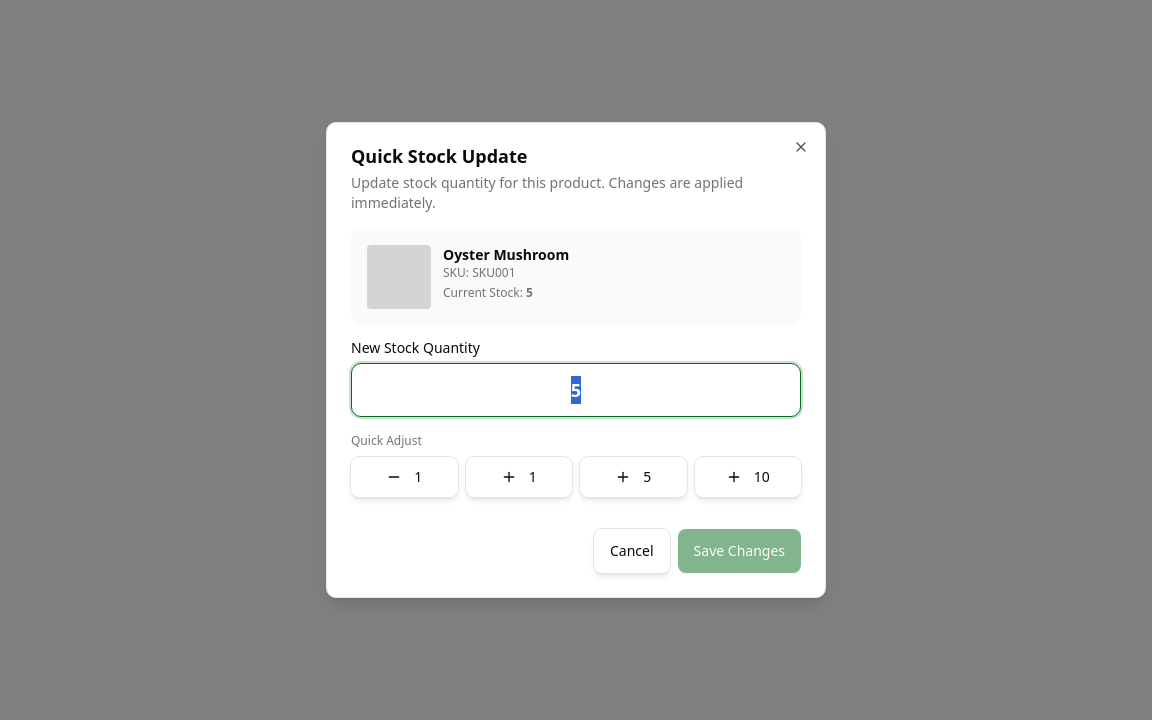
Test: QuickStockUpdate › Quick Adjust Buttons › should increment stock by 1
Click the button named "Increase by 1".
click(519, 477)  # box left=466, top=457, right=572, bottom=497
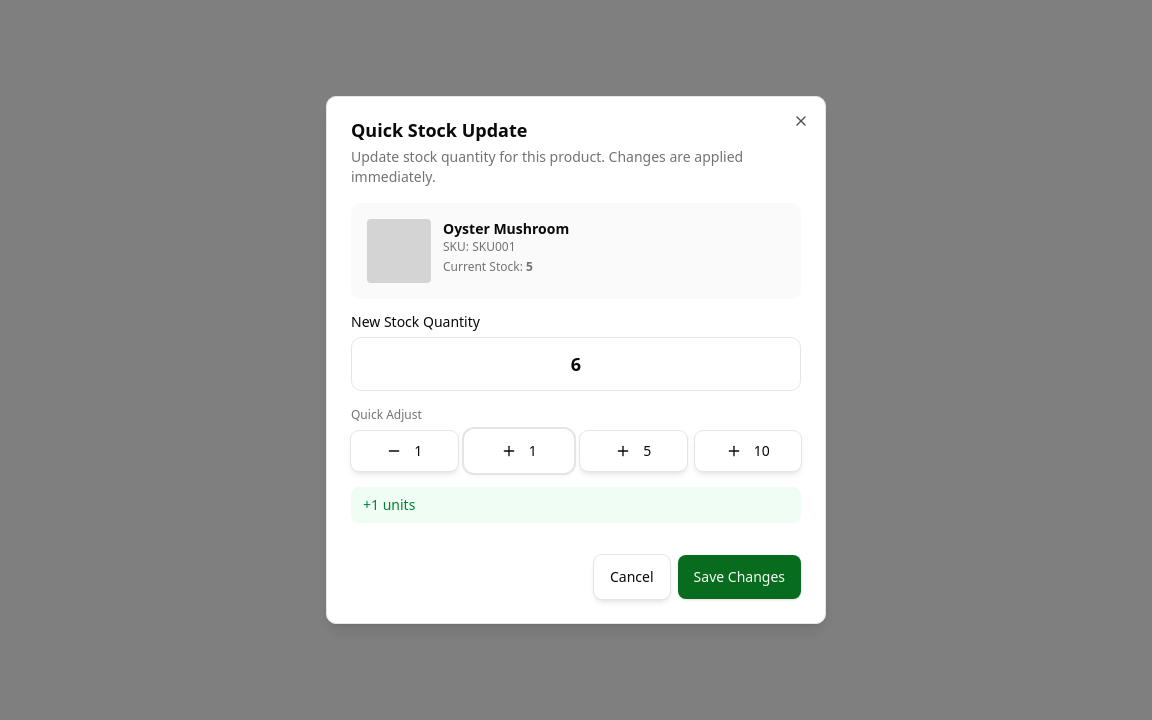
Check: the field labelled "New Stock Quantity" holds "6", box left=351, top=337, right=801, bottom=391
